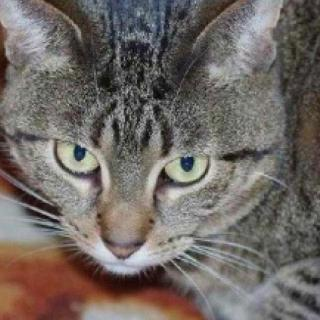cat: (0, 0, 283, 274)
nose: (93, 203, 157, 269)
